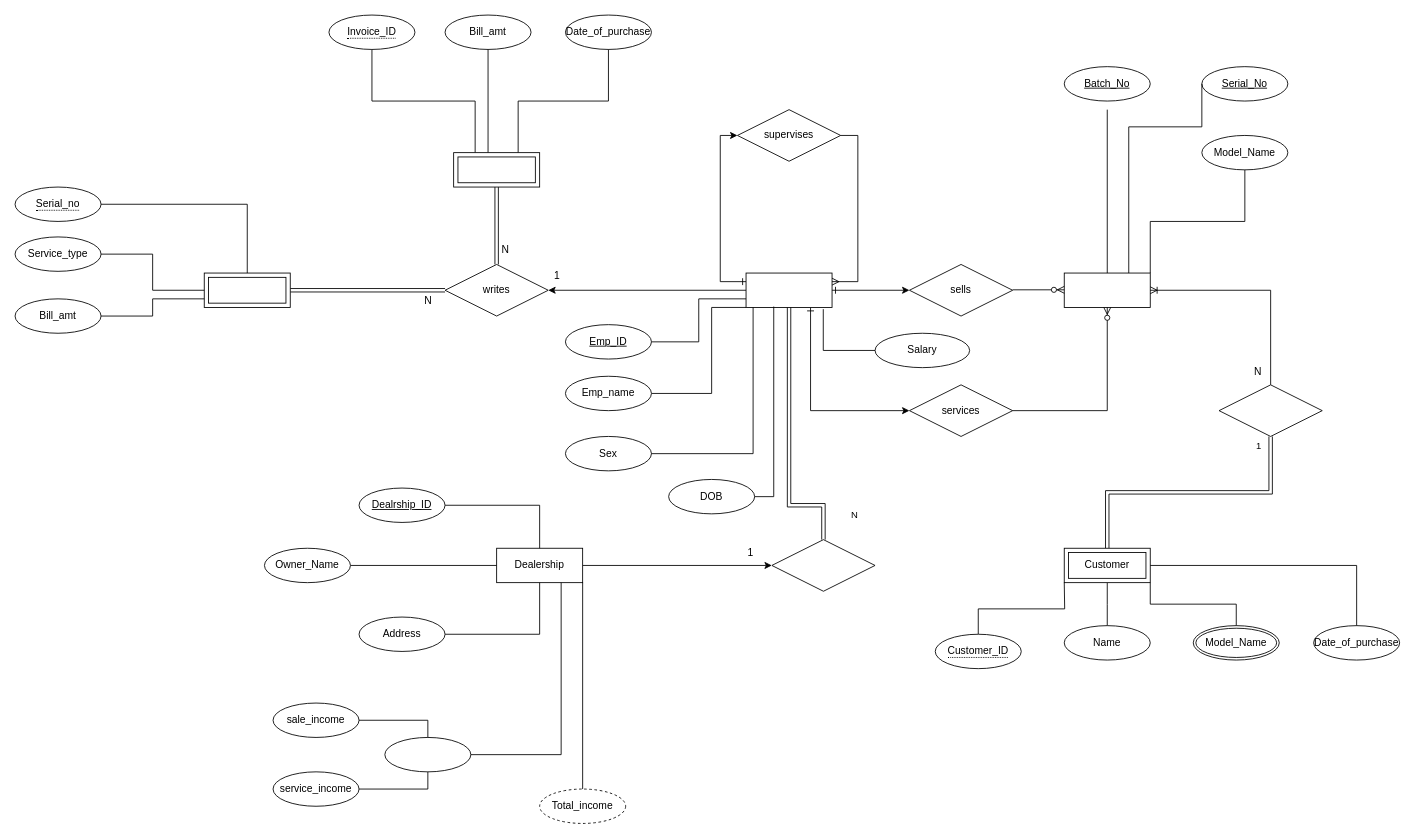
Some shapes in this 1415 by 839 pixel diagram are drawn without their labels. The shapes that lost their labels are listed below. From the top down, each one's centre as x and y in pixels, then its label:
At pixel 496 169: "Sale record".
At pixel 246 289: "Service record".
At pixel 788 289: "Employee".
At pixel 1106 289: "Bike".
At pixel 1270 410: "owned by".
At pixel 823 565: "has".
At pixel 427 754: "Income".
